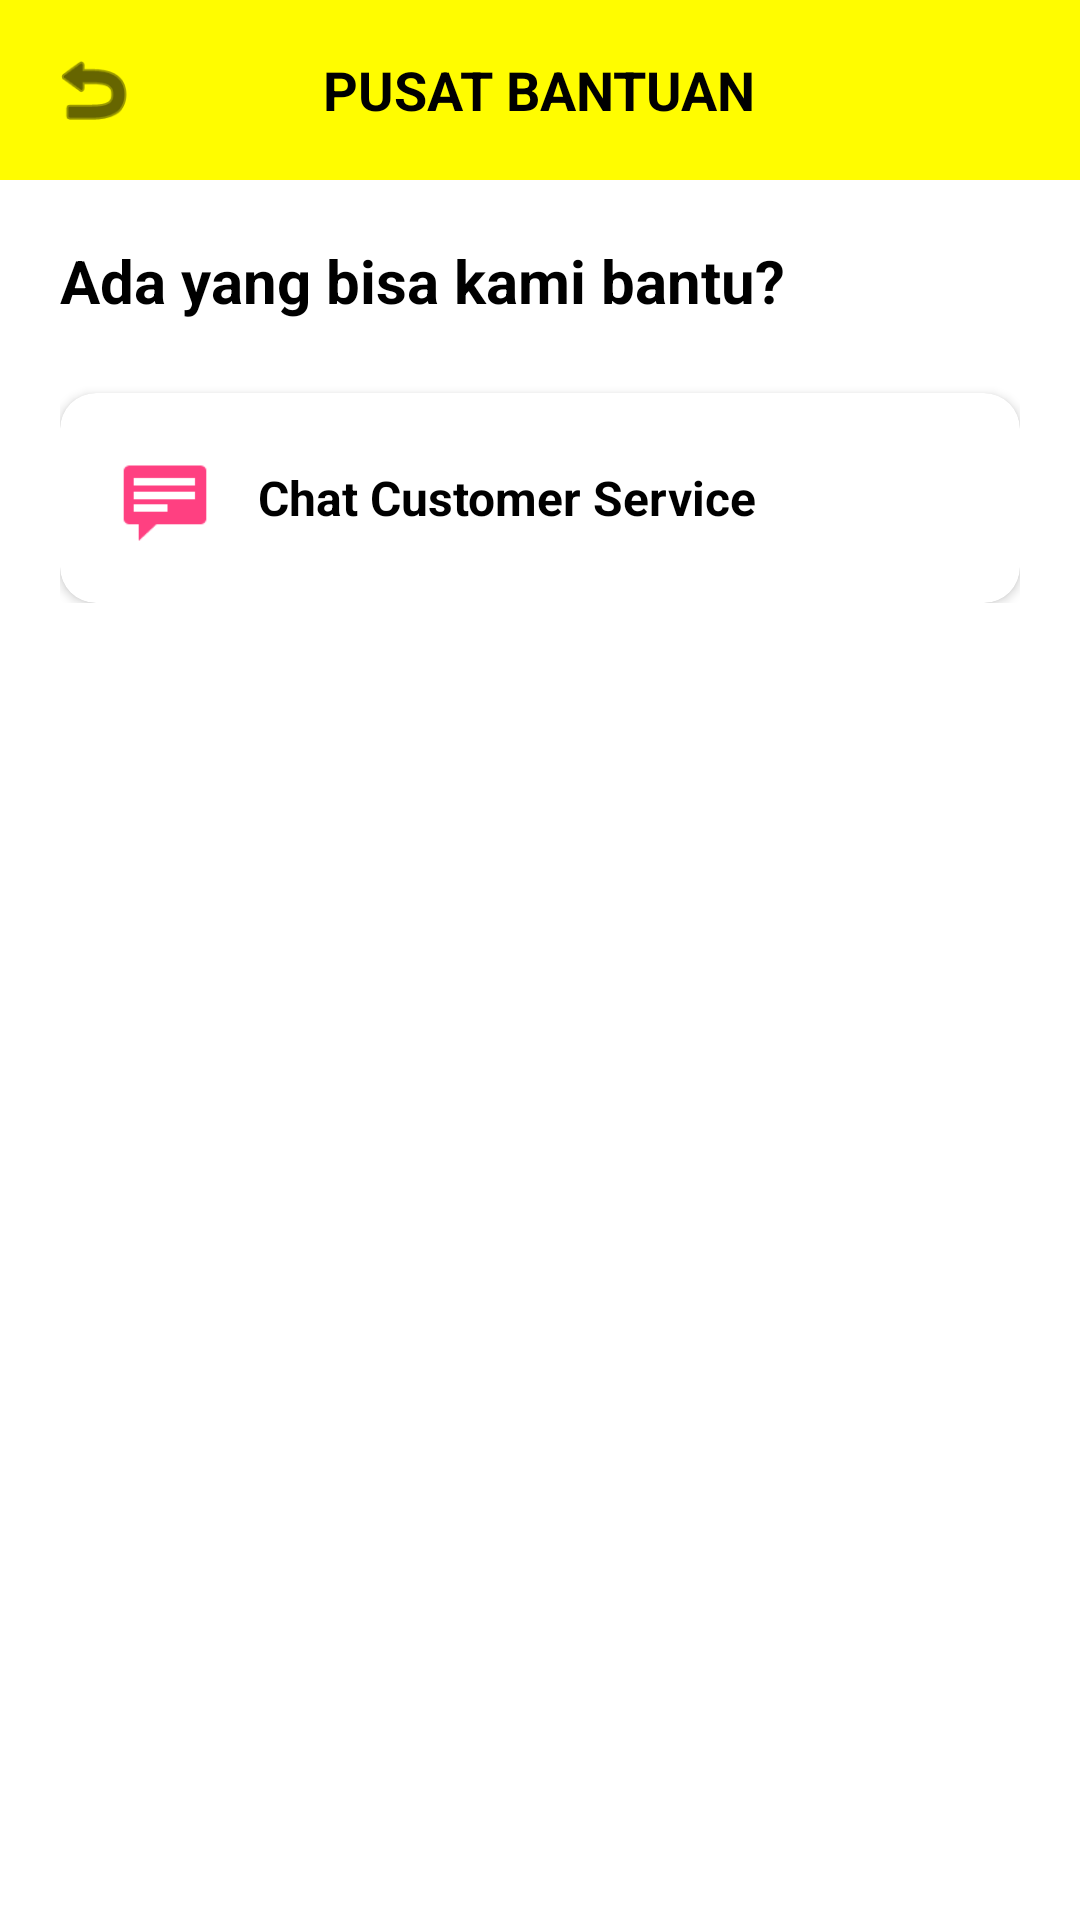

Icon click points for this 1080x1920 phone screenshot, format (x=x, y=y):
Kembali: (x=94, y=90)
